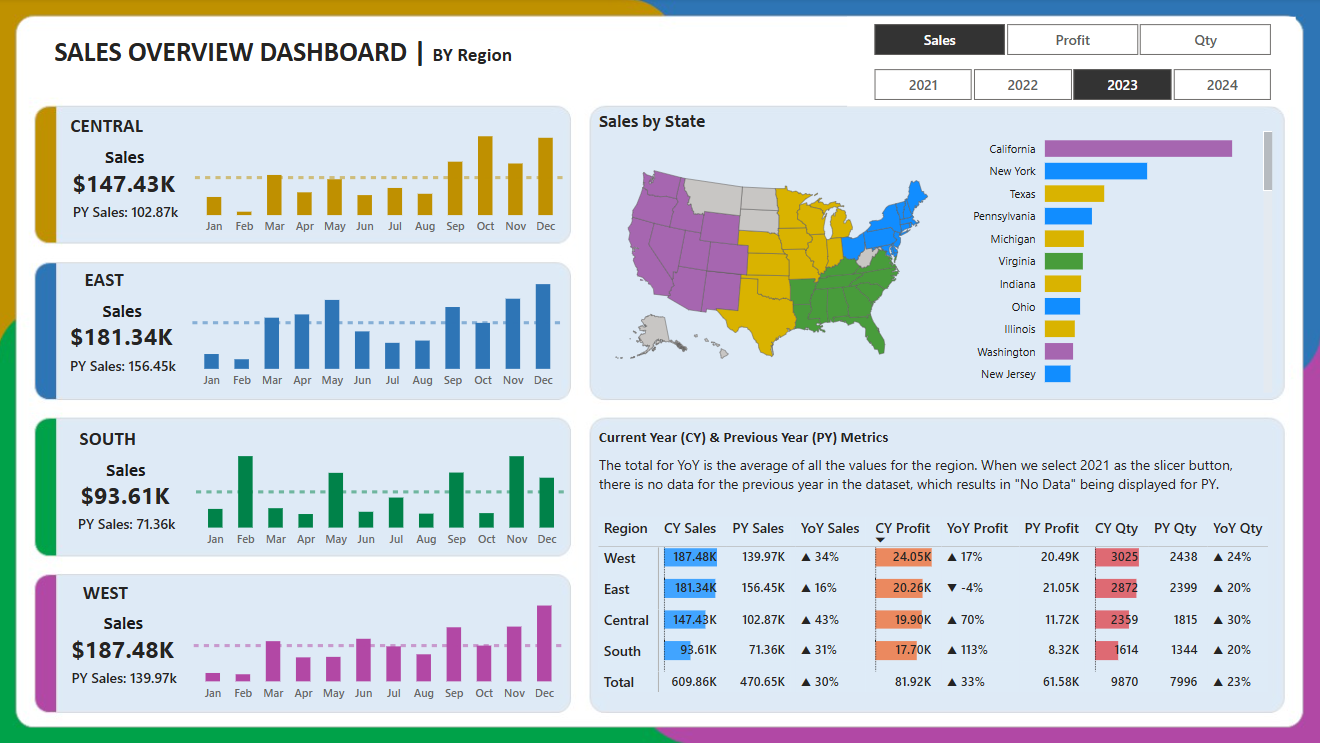

This screenshot's page, from the dashboard's own definition file:
{"tool":"powerbi","page":{"name":"Page 1","canvas":[1280,720],"ordinal":0},"visuals":[{"type":"slicer","fields":{"Values":["Select Metric.Select Metric"]},"box":[821.6,18.1,433.1,43.4],"z":0},{"type":"slicer","fields":{"Values":["Calendar Table.Year"]},"box":[821.6,61.5,433.1,43.4],"z":1000},{"type":"card","fields":{"Values":["Sales Data.Total Sales"]},"box":[68.8,165.2,109.8,29],"z":1000,"group":"g5"},{"type":"card","fields":{"Values":["Sales Data.Total Sales"]},"box":[66.8,313.4,109.8,29],"z":1000,"group":"g3"},{"type":"card","fields":{"Values":["Sales Data.Total Sales"]},"box":[69.6,467.1,109.8,29],"z":1000,"group":"g4"},{"type":"card","fields":{"Values":["Sales Data.Total Sales"]},"box":[68.2,615.3,109.8,29],"z":1000,"group":"g2"},{"type":"textbox","box":[0,30.2,554.4,43.9],"z":2000},{"type":"textbox","box":[55.5,107.3,102.5,32.6],"z":2000,"group":"g5"},{"type":"textbox","box":[53.5,255.5,102.5,32.6],"z":2000,"group":"g3"},{"type":"textbox","box":[56.3,409.2,102.5,32.6],"z":2000,"group":"g4"},{"type":"textbox","box":[54.9,557.4,102.5,32.6],"z":2000,"group":"g2"},{"type":"group","id":"g1","title":"Group 1","box":[55.5,107,498.9,130.4],"z":3000},{"type":"card","fields":{"Values":["Sales Data.Dynamic Title"]},"box":[89.3,139.9,70,25.3],"z":4000,"group":"g5"},{"type":"card","fields":{"Values":["Sales Data.Dynamic Title"]},"box":[87.3,288.1,70,25.3],"z":4000,"group":"g3"},{"type":"card","fields":{"Values":["Sales Data.Dynamic Title"]},"box":[90.1,441.8,70,25.3],"z":4000,"group":"g4"},{"type":"group","id":"g2","title":"Group 1","box":[54.9,557.1,498.1,130.4],"z":4000},{"type":"card","fields":{"Values":["Sales Data.Dynamic Title"]},"box":[88.7,590,70,25.3],"z":4000,"group":"g2"},{"type":"card","fields":{"Values":["Sales Data.PY KPI Sales"]},"box":[64.5,193.4,122.1,26.1],"z":5000,"group":"g5"},{"type":"group","id":"g3","title":"Group 2","box":[53.5,255.2,499.5,130.4],"z":5000},{"type":"card","fields":{"Values":["Sales Data.PY KPI Sales"]},"box":[62.5,341.6,122.1,26.1],"z":5000,"group":"g3"},{"type":"card","fields":{"Values":["Sales Data.PY KPI Sales"]},"box":[65.3,495.3,122.1,26.1],"z":5000,"group":"g4"},{"type":"card","fields":{"Values":["Sales Data.PY KPI Sales"]},"box":[63.9,643.5,122.1,26.1],"z":5000,"group":"g2"},{"type":"clusteredColumnChart","fields":{"Y":["Sales Data.Total Sales"],"Category":["Calendar Table.Month"]},"box":[186.6,107,367.8,130.4],"z":6000,"group":"g5"},{"type":"clusteredColumnChart","fields":{"Y":["Sales Data.Total Sales"],"Category":["Calendar Table.Month"]},"box":[184.6,255.2,367.8,130.4],"z":6000,"group":"g3"},{"type":"group","id":"g4","title":"Group 1","box":[56.3,408.9,498.1,130.4],"z":6000},{"type":"clusteredColumnChart","fields":{"Y":["Sales Data.Total Sales"],"Category":["Calendar Table.Month"]},"box":[187.4,408.9,367.8,130.4],"z":6000,"group":"g4"},{"type":"clusteredColumnChart","fields":{"Y":["Sales Data.Total Sales"],"Category":["Calendar Table.Month"]},"box":[186,557.1,367.8,130.4],"z":6000,"group":"g2"},{"type":"group","id":"g5","title":"Group 2","box":[55.5,107,498.9,130.4],"z":6009,"group":"g1"},{"type":"shapeMap","title":"Sales by State","fields":{"Value":["Sales Data.Total Sales"],"Category":["Sales Data.State/Province"],"Series":["Sales Data.Region"]},"box":[576.3,107,344.4,278.6],"z":7000},{"type":"barChart","fields":{"Y":["Sales Data.Total Sales"],"Category":["Sales Data.State/Province"],"Series":["Sales Data.Region"]},"box":[920.5,115.8,316.1,270.2],"z":8000},{"type":"pivotTable","fields":{"Rows":["Sales Data.Region"],"Values":["Sales Data.CY Sales","Sales Data.PY Sales","Sales Data.YoY Sales","Sales Data.CY Profit","Sales Data.YoY Profit","Sales Data.PY Profit","Sales Data.CY Qty","Sales Data.PY Qty","Sales Data.YoY Qty"]},"box":[576.7,495.8,668.4,206.3],"z":9000},{"type":"textbox","box":[576.7,409,365.6,32.6],"z":10000},{"type":"textbox","box":[576.7,436.7,659.9,59.1],"z":11000}]}

Visuals, with their boxes in screenshot pixels (x1, y1, x2, y2), scaled from the page's 1280x720 canvas onto the 1320x743 screenshot:
slicer - Select Metric.Select Metric: [847, 19, 1294, 63]
slicer - Calendar Table.Year: [847, 63, 1294, 108]
card - Sales Data.Total Sales: [71, 170, 184, 200]
card - Sales Data.Total Sales: [69, 323, 182, 353]
card - Sales Data.Total Sales: [72, 482, 185, 512]
card - Sales Data.Total Sales: [70, 635, 184, 665]
textbox: [0, 31, 572, 76]
textbox: [57, 111, 163, 144]
textbox: [55, 264, 161, 297]
textbox: [58, 422, 164, 456]
textbox: [57, 575, 162, 609]
"Group 1" group: [57, 110, 572, 245]
card - Sales Data.Dynamic Title: [92, 144, 164, 170]
card - Sales Data.Dynamic Title: [90, 297, 162, 323]
card - Sales Data.Dynamic Title: [93, 456, 165, 482]
"Group 1" group: [57, 575, 570, 709]
card - Sales Data.Dynamic Title: [91, 609, 164, 635]
card - Sales Data.PY KPI Sales: [67, 200, 192, 227]
"Group 2" group: [55, 263, 570, 398]
card - Sales Data.PY KPI Sales: [64, 353, 190, 379]
card - Sales Data.PY KPI Sales: [67, 511, 193, 538]
card - Sales Data.PY KPI Sales: [66, 664, 192, 691]
clusteredColumnChart - Sales Data.Total Sales x Calendar Table.Month: [192, 110, 572, 245]
clusteredColumnChart - Sales Data.Total Sales x Calendar Table.Month: [190, 263, 570, 398]
"Group 1" group: [58, 422, 572, 557]
clusteredColumnChart - Sales Data.Total Sales x Calendar Table.Month: [193, 422, 573, 557]
clusteredColumnChart - Sales Data.Total Sales x Calendar Table.Month: [192, 575, 571, 709]
"Group 2" group: [57, 110, 572, 245]
"Sales by State" shapeMap: [594, 110, 949, 398]
barChart - Sales Data.Total Sales x Sales Data.State/Province: [949, 119, 1275, 398]
pivotTable - Sales Data.Region x Sales Data.CY Sales: [595, 512, 1284, 725]
textbox: [595, 422, 972, 456]
textbox: [595, 451, 1275, 512]
